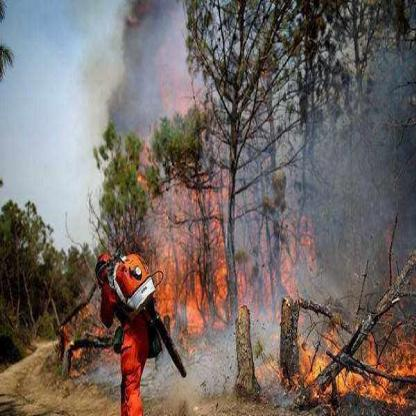fire: (132, 57, 320, 332), (268, 274, 406, 410), (56, 296, 116, 365)
